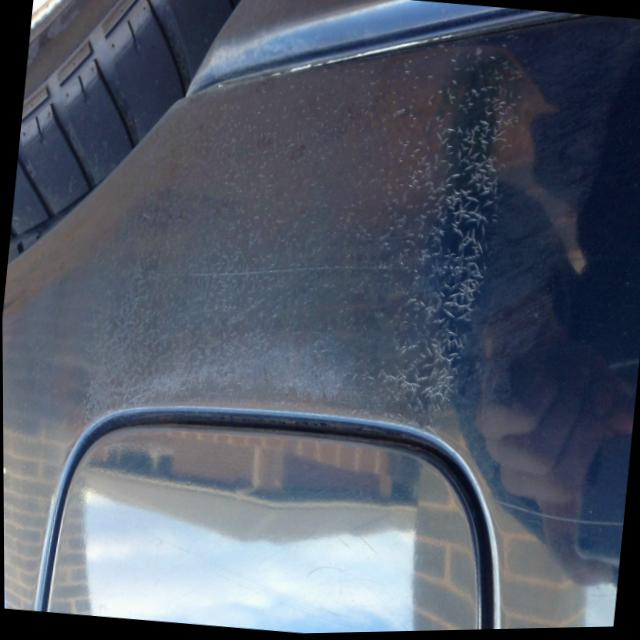Paint-Crack: (376, 34, 519, 431)
